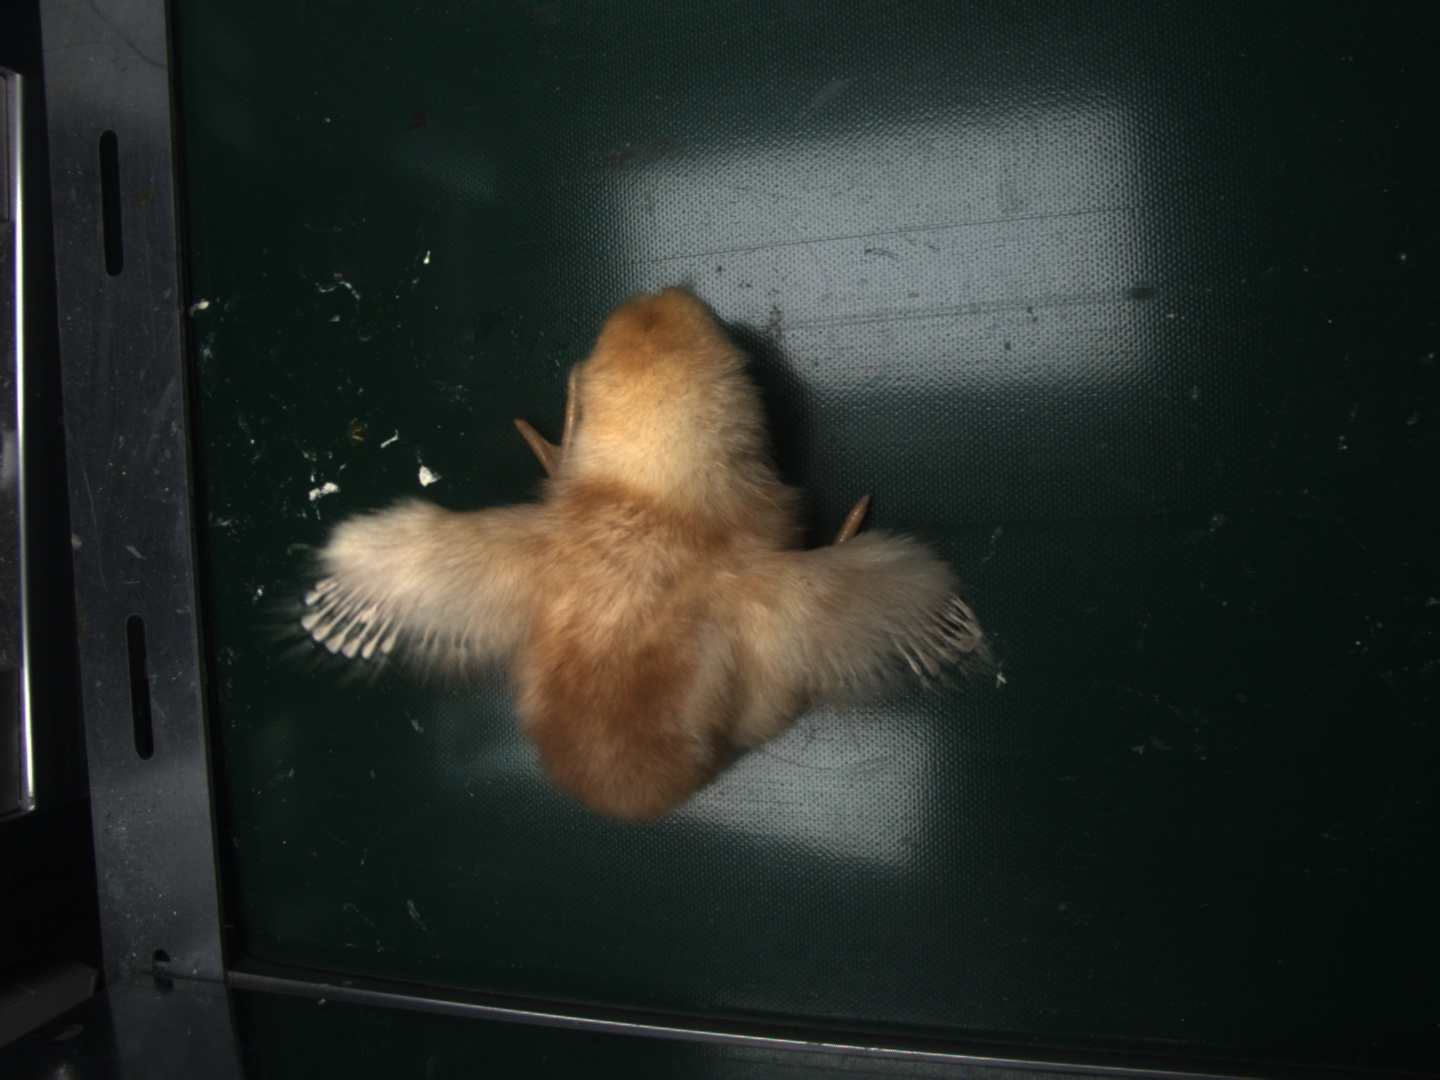female: (302, 577, 399, 666)
